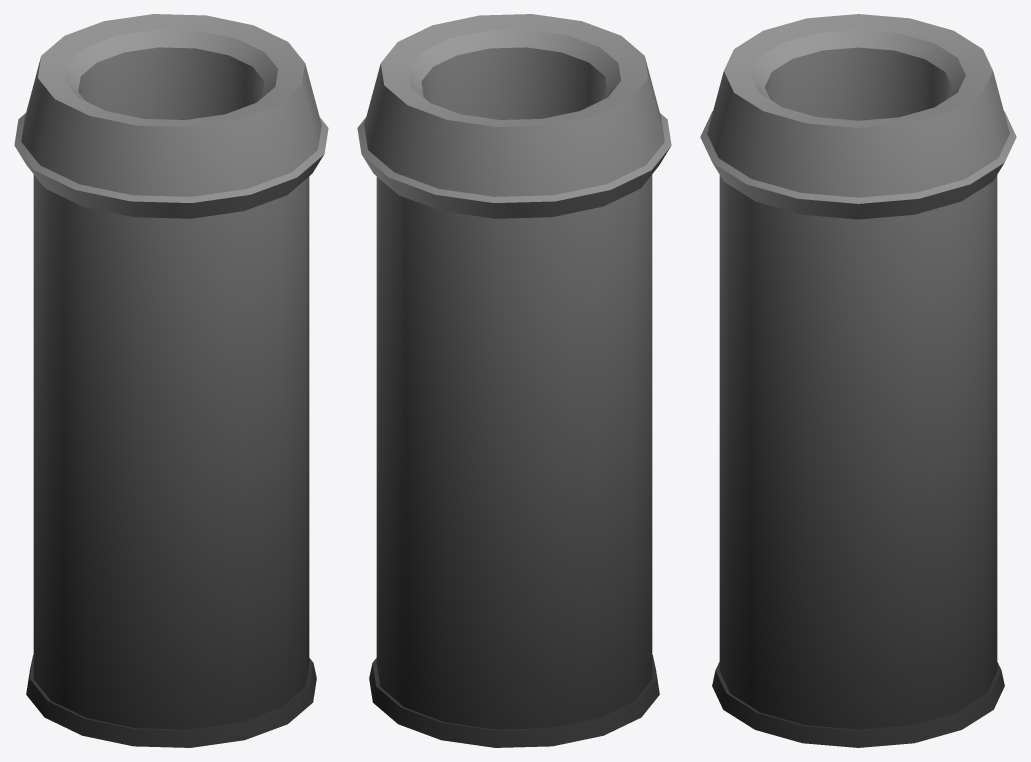
The model's file is TempatSampahSingle.fbx.
The picture shows the model from 3 angles, left to right: view 1: azimuth 30°, elevation 25°; view 2: azimuth 150°, elevation 25°; view 3: azimuth 270°, elevation 25°; orthographic projection.
Parts seen in each view (by area): view 1: TempatSampahSingle_LOD0; view 2: TempatSampahSingle_LOD0; view 3: TempatSampahSingle_LOD0.
Part boxes in pixels (bbox=[...]): TempatSampahSingle_LOD0: bbox=[14, 14, 328, 747]; TempatSampahSingle_LOD0: bbox=[357, 14, 671, 747]; TempatSampahSingle_LOD0: bbox=[700, 14, 1016, 747].
Size of what is drawn, in the model's own units: 51.75 by 111 by 51.75.
